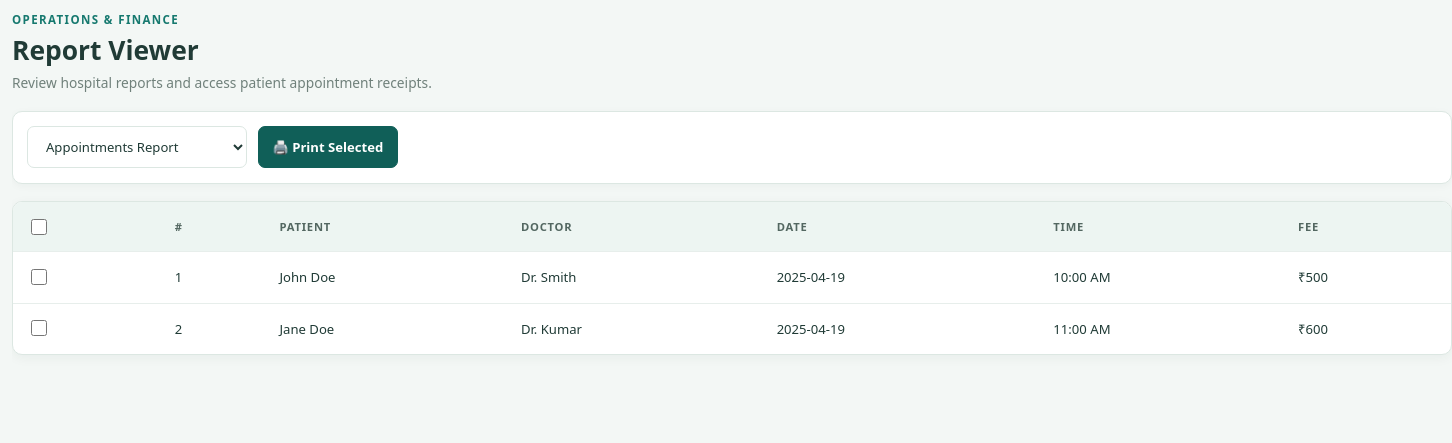
Test case: normalizes punctuation in a mobile number and reports unmatched searches
Step 1. Select "Appointment Receipts" in the dropdown named "Report type" → coordinates (137, 147), box x1=27 y1=126 x2=247 y2=168
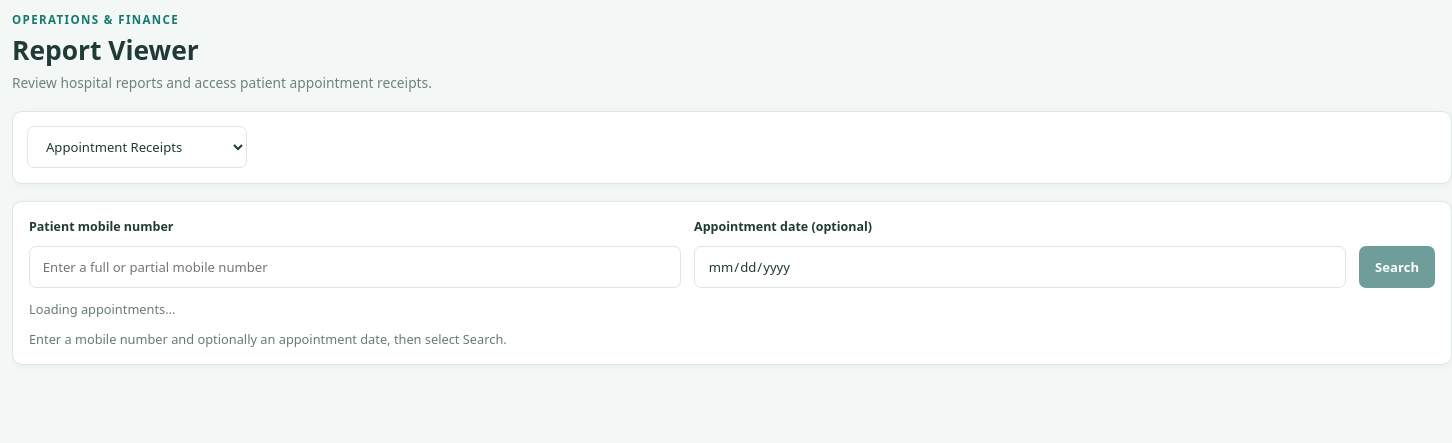
Step 2. Type "000" into the search field labelled "Patient mobile number" → coordinates (355, 266), box x1=29 y1=246 x2=681 y2=288
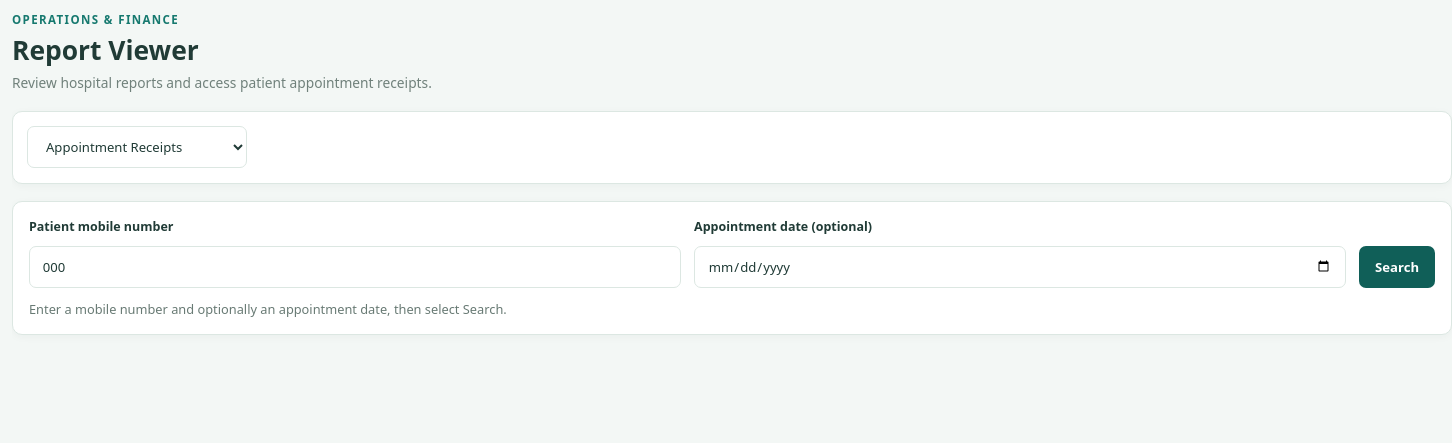
Step 3. Click the button "Search" → coordinates (1397, 266), box x1=1359 y1=246 x2=1435 y2=288
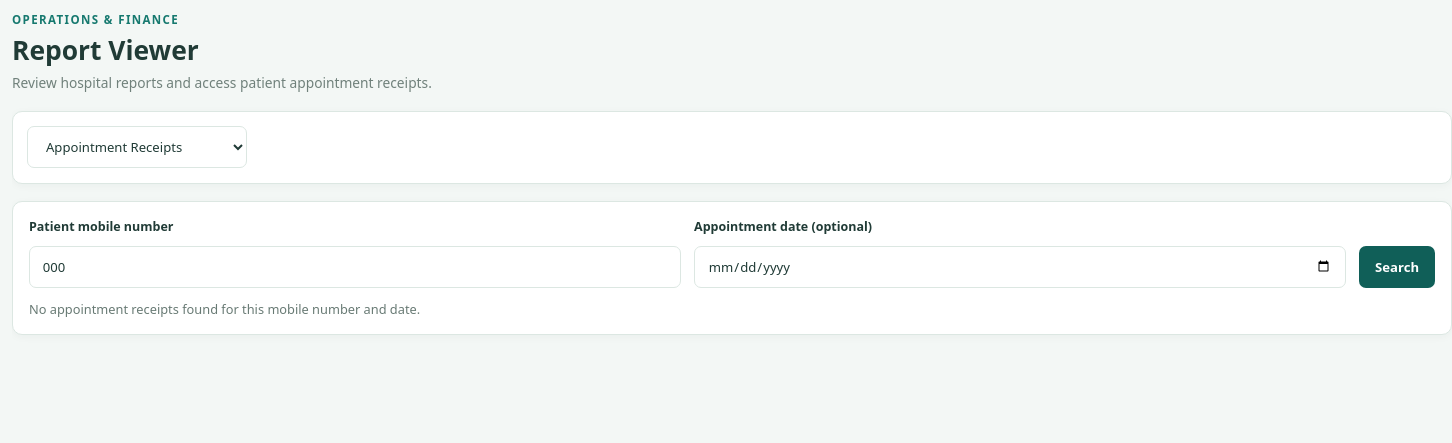
Expected: the text "No appointment receipts found for this mobile number and date." is shown, x1=29 y1=300 x2=420 y2=318
Step 4. Replace the text in the search field labelled "Patient mobile number" with "9876" → coordinates (355, 266), box x1=29 y1=246 x2=681 y2=288
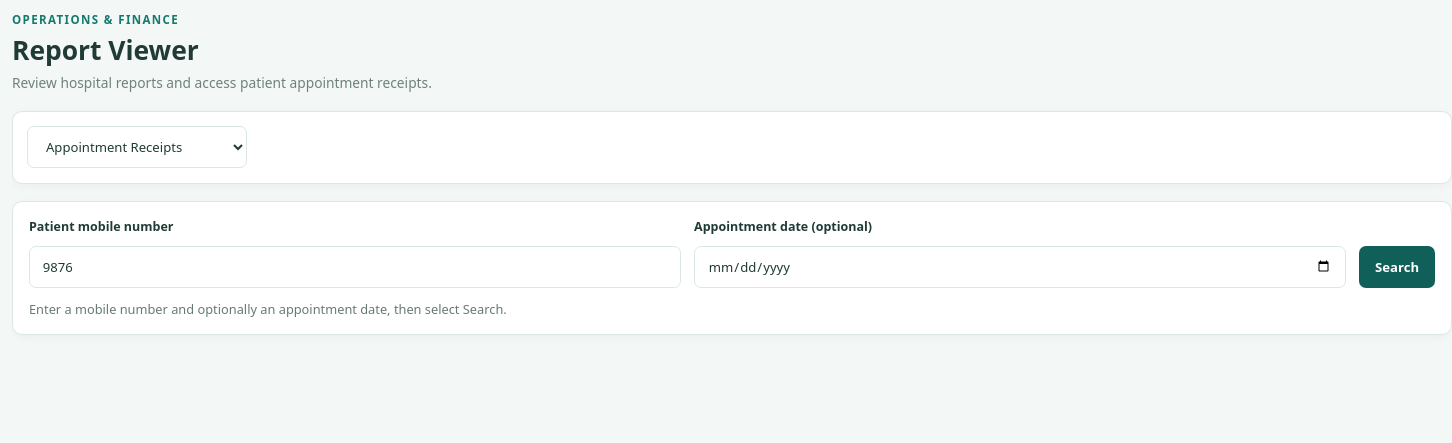
Step 5. Click the button "Search" → coordinates (1397, 266), box x1=1359 y1=246 x2=1435 y2=288
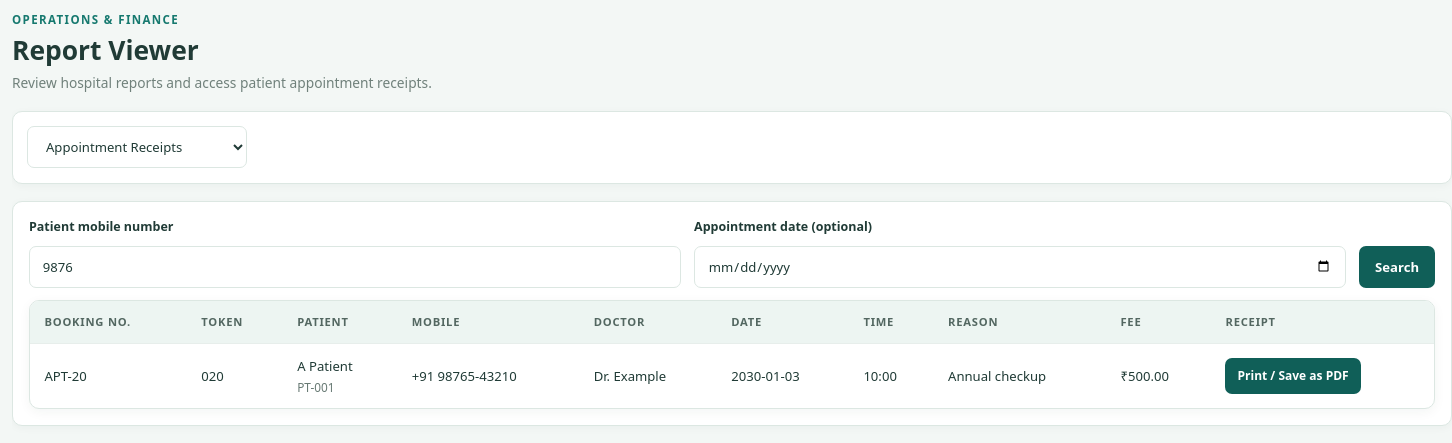
Expected: the text "APT-20" is shown, x1=30 y1=343 x2=187 y2=408
